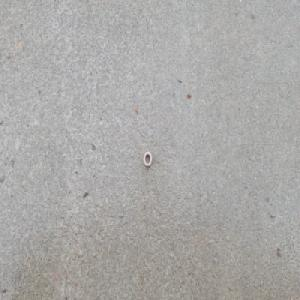Nut: (142, 150, 152, 167)
